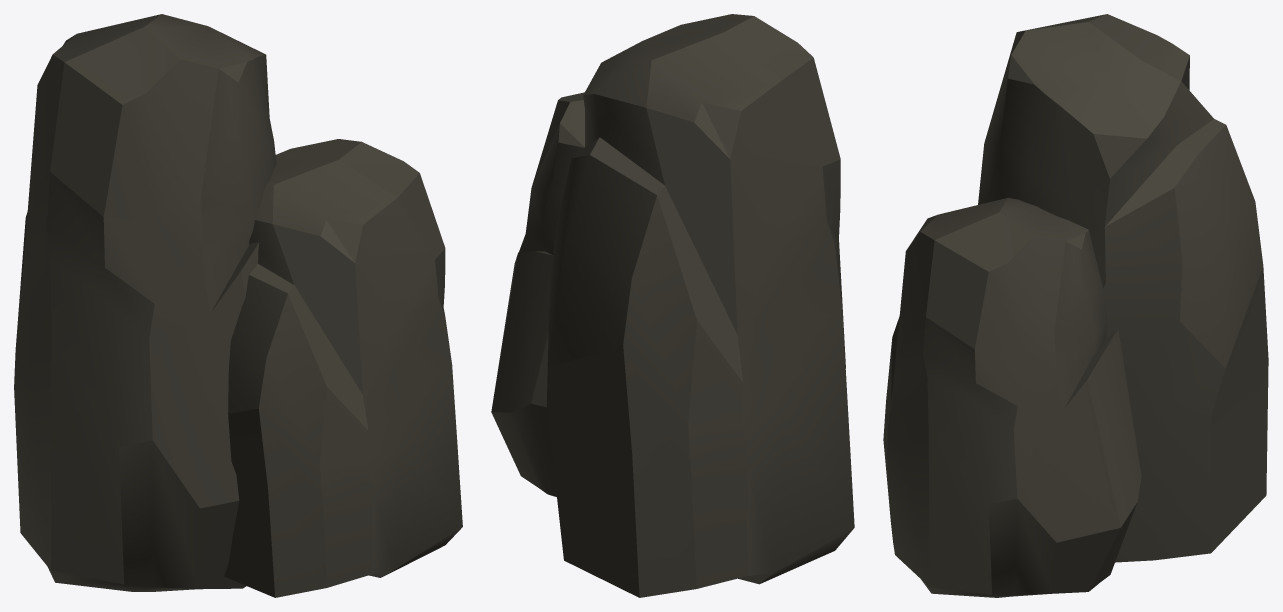
File: Rock_Large_3.obj
3 renders of one model, left to right at view 1: azimuth 30°, elevation 25°; view 2: azimuth 150°, elevation 25°; view 3: azimuth 270°, elevation 25°, orthographic. The views are drawn at different scales.
Parts seen in each view (by area): view 1: Rock_Large_3_Cube.006; view 2: Rock_Large_3_Cube.006; view 3: Rock_Large_3_Cube.006.
Part boxes in pixels (<box>): Rock_Large_3_Cube.006: <box>14,14,462,597</box>; Rock_Large_3_Cube.006: <box>491,14,854,597</box>; Rock_Large_3_Cube.006: <box>883,14,1268,597</box>.
Size of the model in its own units: 5.31 by 7.43 by 5.19.
1 material, 1 textured.
